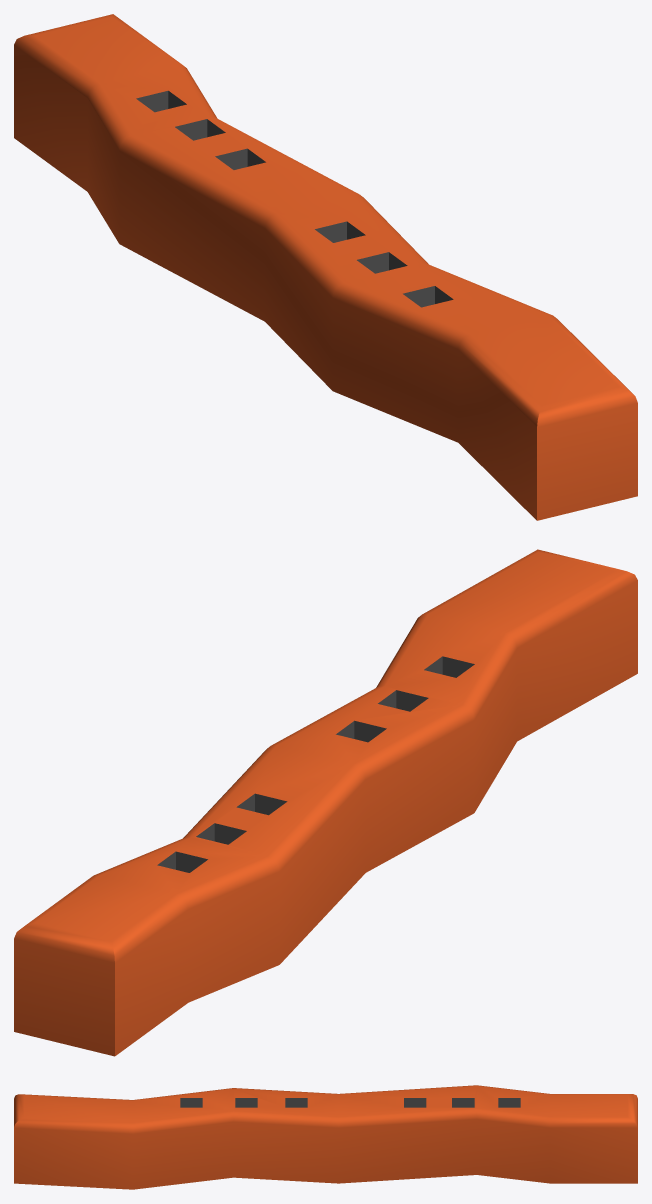
Rendered from ground.fbx.
The picture shows the model from 3 angles, top to bottom: view 1: azimuth 30°, elevation 25°; view 2: azimuth 150°, elevation 25°; view 3: azimuth 270°, elevation 25°; orthographic projection. The views are drawn at different scales.
Visible parts, largest first — view 1: Cube; view 2: Cube; view 3: Cube.
Boxes of the visible parts, <box> form: Cube: <box>14,14,637,520</box>; Cube: <box>14,549,637,1056</box>; Cube: <box>14,1085,637,1189</box>.
Size of the model in its own units: 300 by 200 by 1794.
